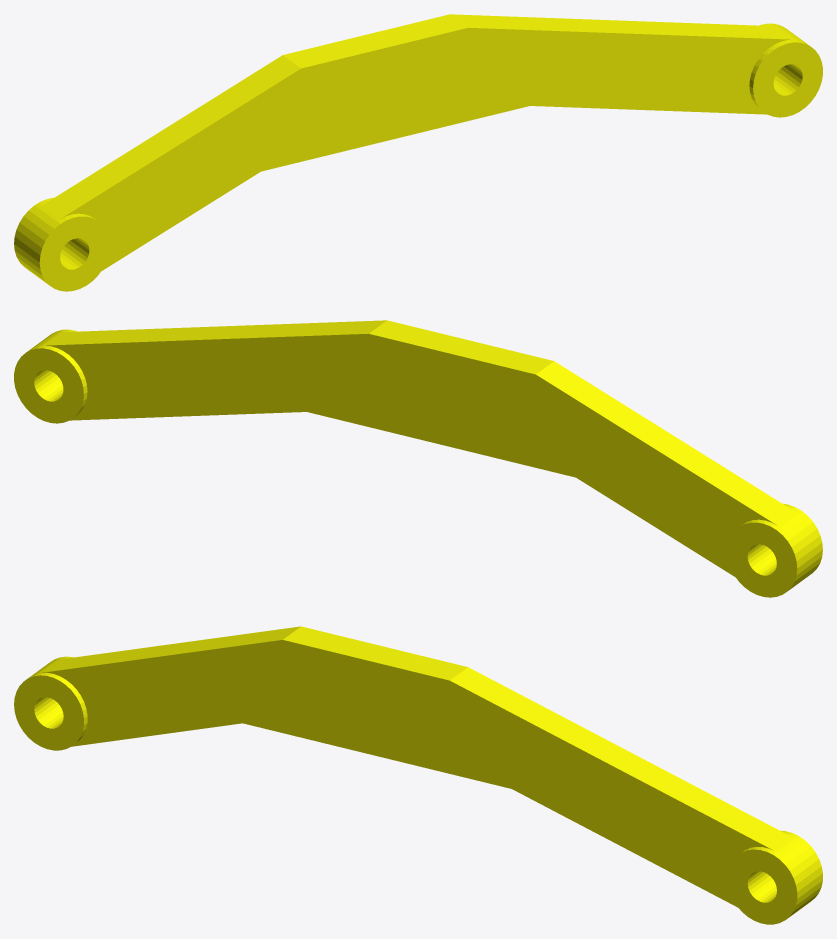
3 renders of one model, top to bottom at view 1: azimuth 30°, elevation 25°; view 2: azimuth 150°, elevation 25°; view 3: azimuth 330°, elevation 25°, orthographic.
Parts seen in each view (by area): view 1: node; view 2: node; view 3: node.
Part boxes in pixels (x1,y1,x2,y2): node: (14, 14, 822, 291); node: (14, 320, 822, 597); node: (14, 626, 822, 924).
Size of the model in its own units: 1230 by 245 by 135.
